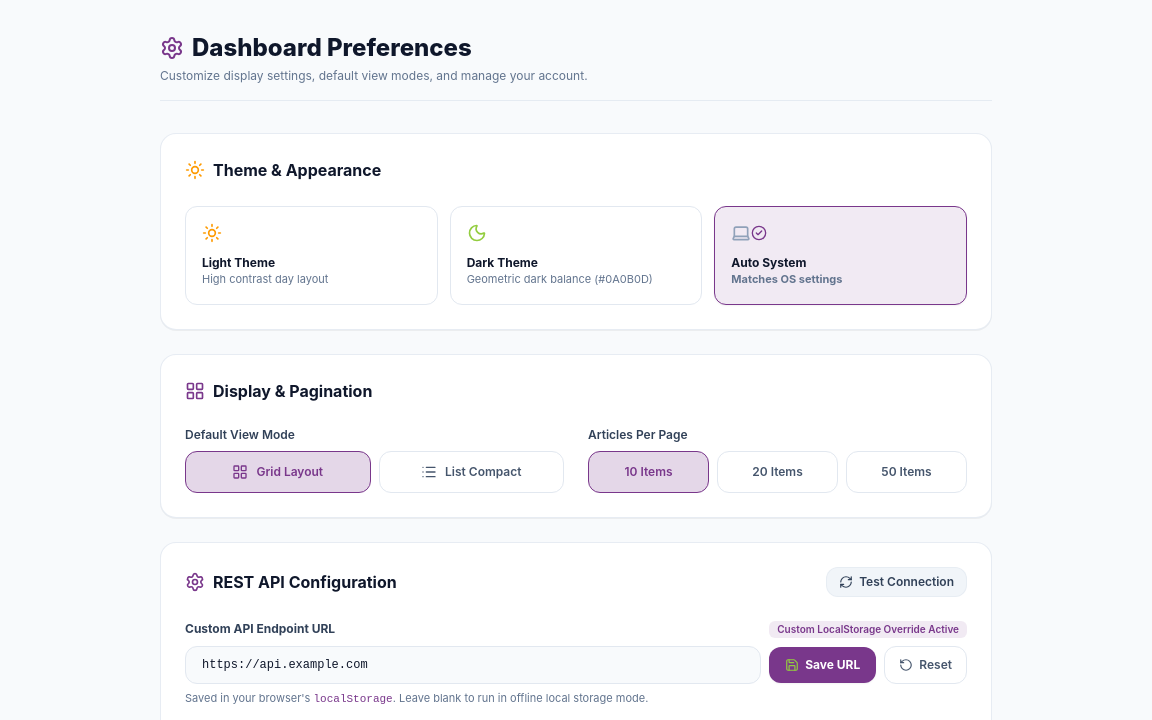
Test: PreferencesPage › resets a custom API URL
Click the button "Reset". click: (926, 665)
box: [884,646,967,684]
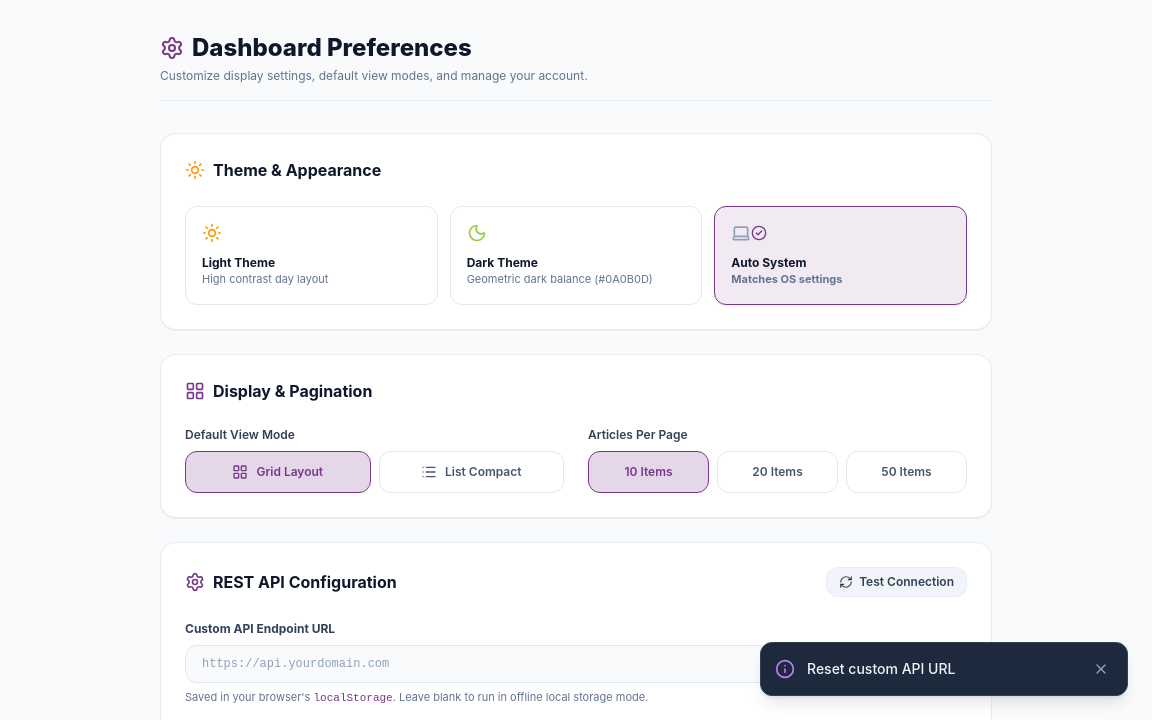
Check: the text "Reset custom API URL" is shown, box [807,659,956,679]
